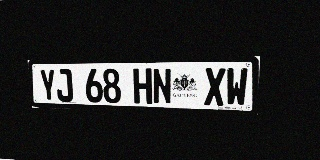6: (84, 69, 103, 103)
8: (102, 68, 121, 103)
H: (133, 68, 152, 104)
J: (55, 69, 73, 102)
N: (152, 68, 172, 104)
W: (225, 68, 248, 106)
X: (204, 68, 225, 106)
Y: (39, 69, 57, 102)
